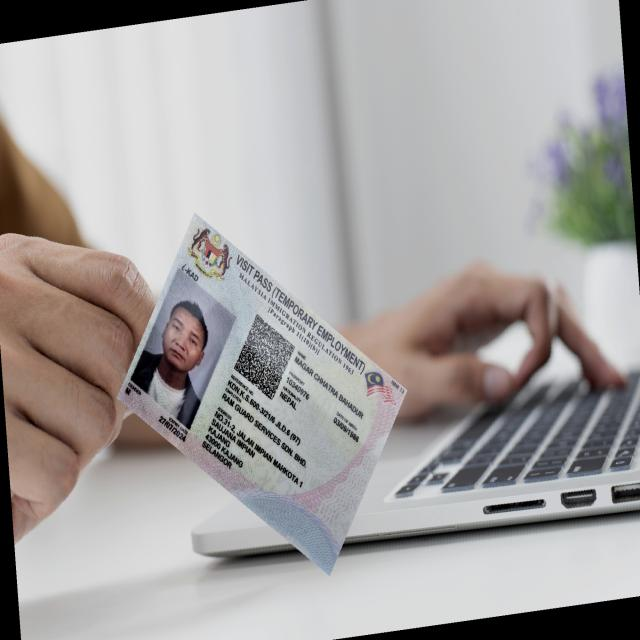ikad-temp: (116, 211, 408, 575)
